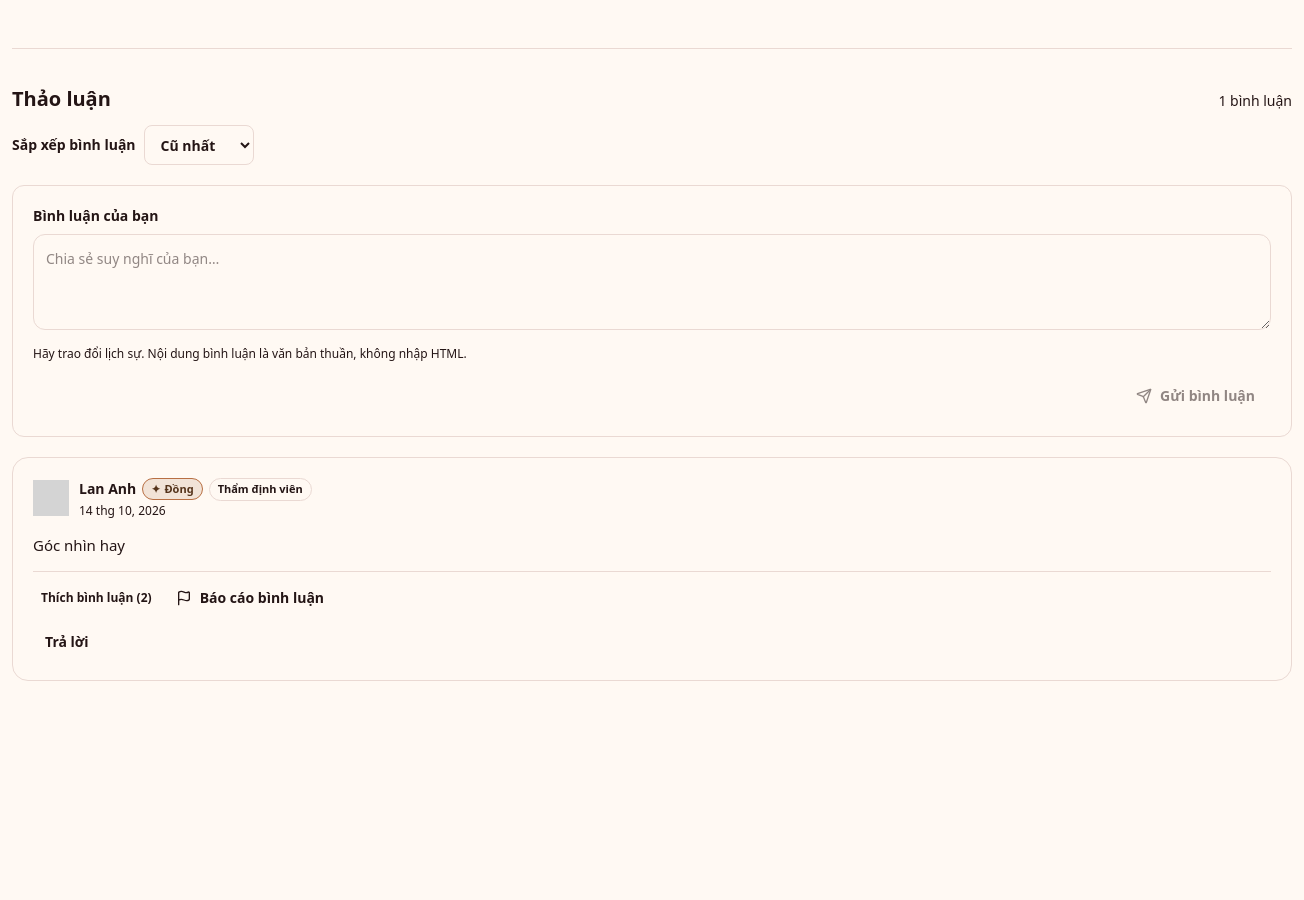
CommunityCommentThreads › lets a signed-in reader like a live comment and updates the count
Click the button "Thích bình luận (2)".
click(96, 598)  # box [33,580,160,616]
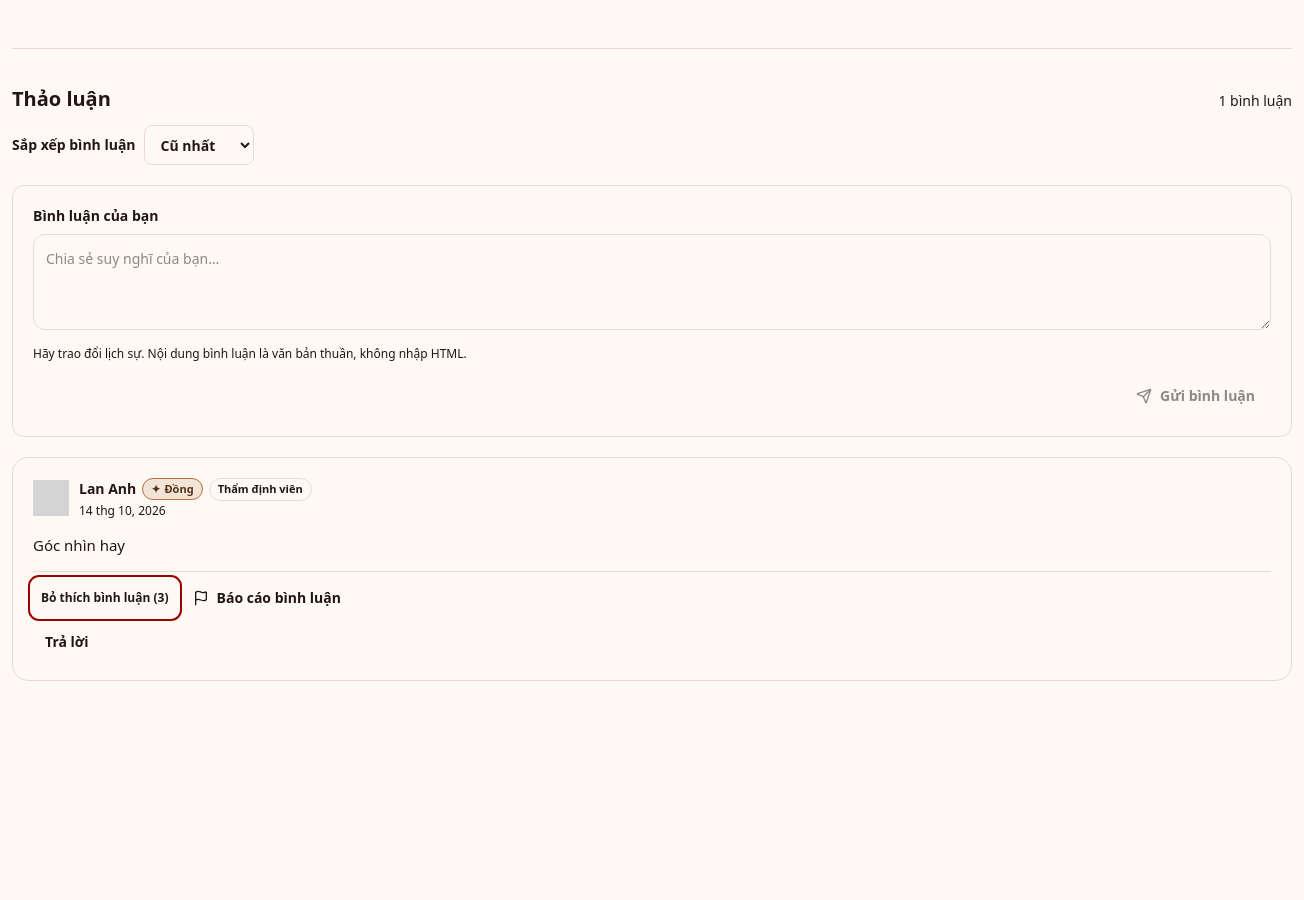
Check: the button "Bỏ thích bình luận (3)" is shown, box [33,580,176,616]
